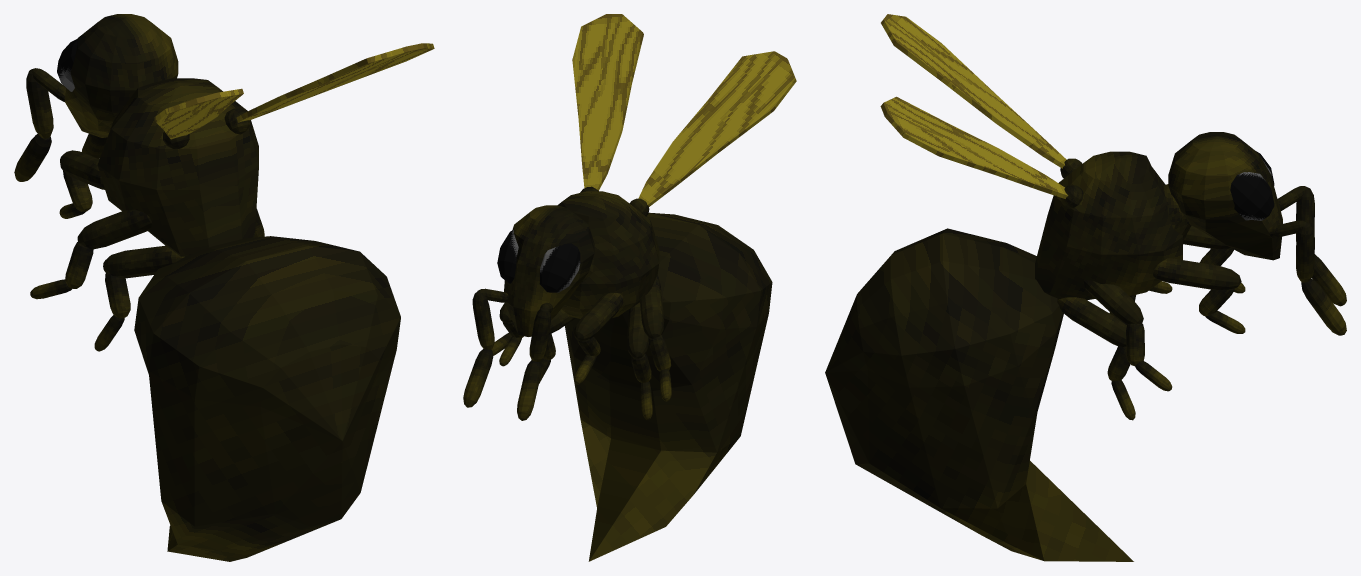
File: TiphiaMother.obj
The picture shows the model from 3 angles, left to right: view 1: azimuth 30°, elevation 25°; view 2: azimuth 150°, elevation 25°; view 3: azimuth 270°, elevation 25°; orthographic projection. The views are drawn at different scales.
Parts seen in each view (by area): view 1: sphere, cylinder, Wing, WingLimb; view 2: sphere, Wing, cylinder; view 3: sphere, cylinder, Wing, WingLimb.
Part boxes in pixels (box(x1,y1,x2,y2)): sphere: box(57, 14, 400, 561); cylinder: box(14, 68, 264, 351); Wing: box(154, 43, 434, 139); WingLimb: box(163, 108, 250, 149); sphere: box(497, 191, 772, 561); Wing: box(572, 14, 796, 206); cylinder: box(463, 258, 671, 420); sphere: box(825, 132, 1282, 561); cylinder: box(1057, 184, 1346, 420); Wing: box(880, 14, 1068, 198); WingLimb: box(1060, 158, 1083, 208).
Size of the model in its own units: 0.7175 by 1.43 by 1.35.
1 material, 1 textured.
